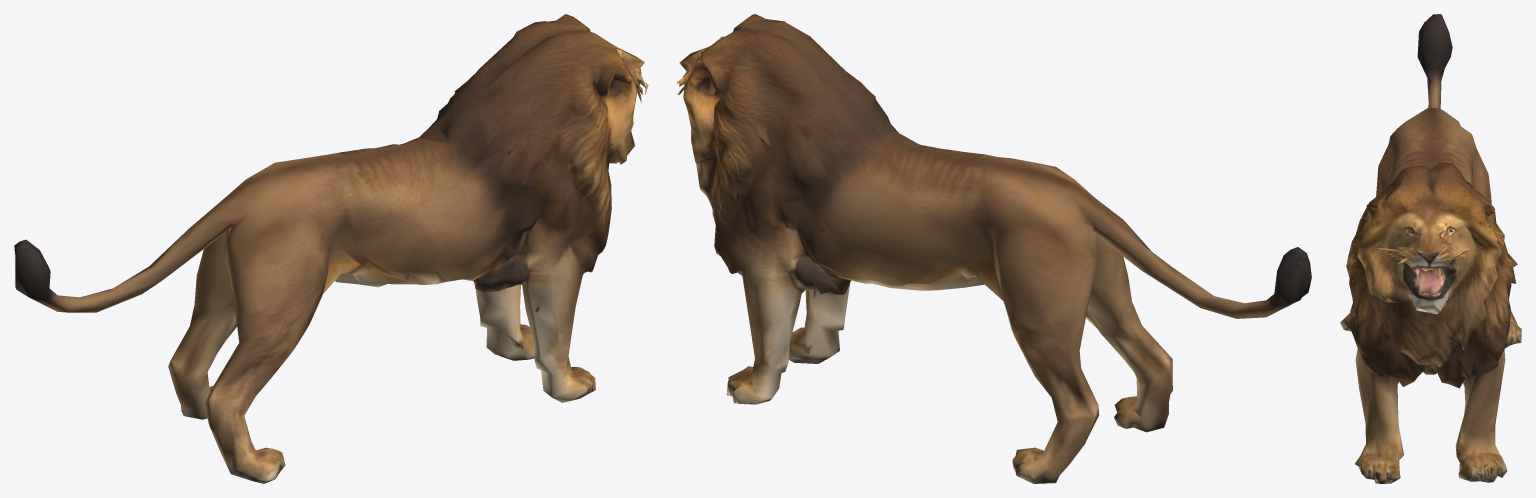
Rendered from LEOTHELION-lo.glb.
3 views of the same model, side by side, from view 1: azimuth 30°, elevation 25°; view 2: azimuth 150°, elevation 25°; view 3: azimuth 270°, elevation 25° (orthographic). The views are drawn at different scales.
Parts seen in each view (by area): view 1: tripo_node_82b41ecf-f824-4513-8f85-9531a90aa499; view 2: tripo_node_82b41ecf-f824-4513-8f85-9531a90aa499; view 3: tripo_node_82b41ecf-f824-4513-8f85-9531a90aa499.
Part boxes in pixels (x1=…): tripo_node_82b41ecf-f824-4513-8f85-9531a90aa499: x1=14, y1=14, x2=648, y2=483; tripo_node_82b41ecf-f824-4513-8f85-9531a90aa499: x1=677, y1=14, x2=1311, y2=483; tripo_node_82b41ecf-f824-4513-8f85-9531a90aa499: x1=1340, y1=14, x2=1521, y2=483.
Size of the model in its own units: 1.88 by 0.9891 by 0.5214.
1 material, 1 textured.
